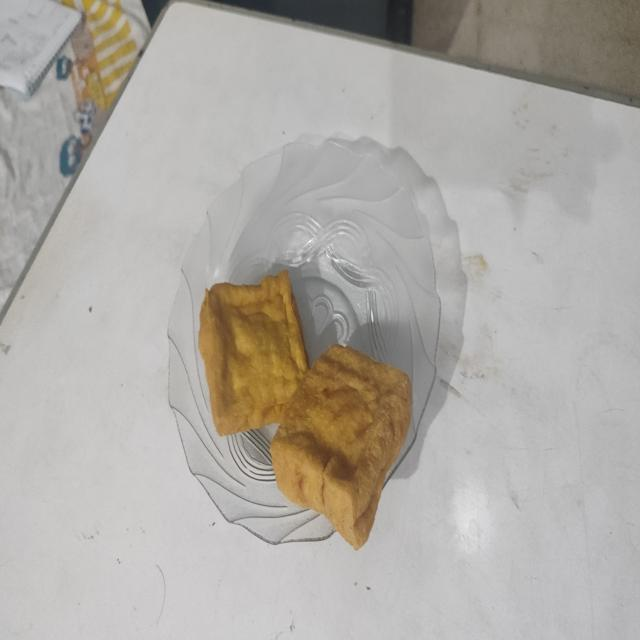tahu_goreng: (271, 345, 412, 550), (198, 270, 309, 436)
